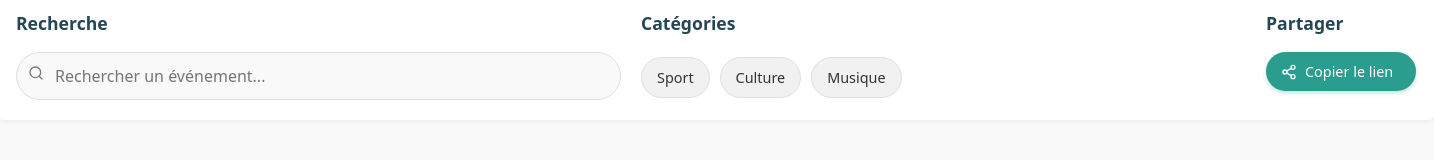
Test: EventFilters › clears the search when clicking the clear button
# First set a value
Type "concert" into the field with class "search-input".
click(318, 76); type("concert")  # box x1=16 y1=52 x2=621 y2=100
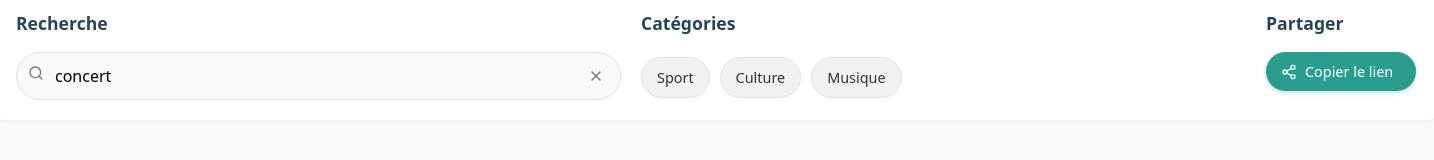
# Then click to clear
Click the button with class "clear-btn".
click(596, 76)  # box x1=583 y1=63 x2=609 y2=89
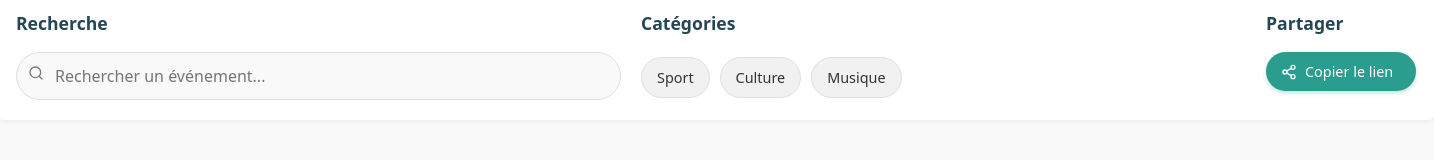
Expected: the field with class "search-input" is empty, x1=16 y1=52 x2=621 y2=100
